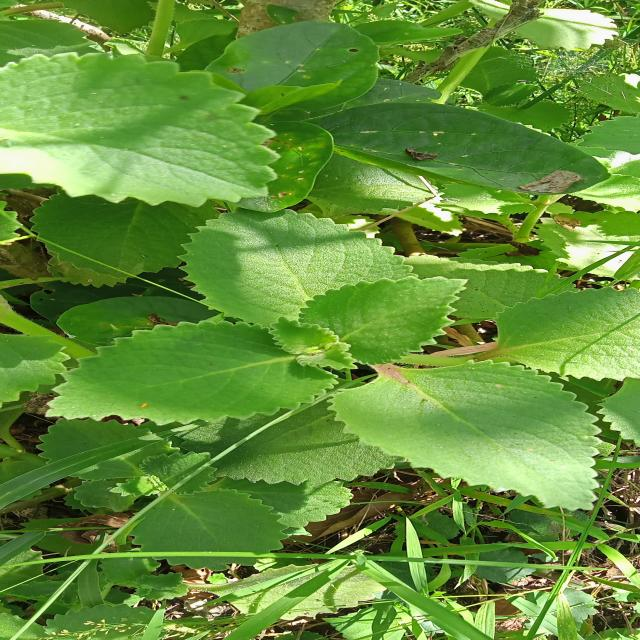Oregano: (73, 249, 599, 454), (1, 44, 298, 210)
